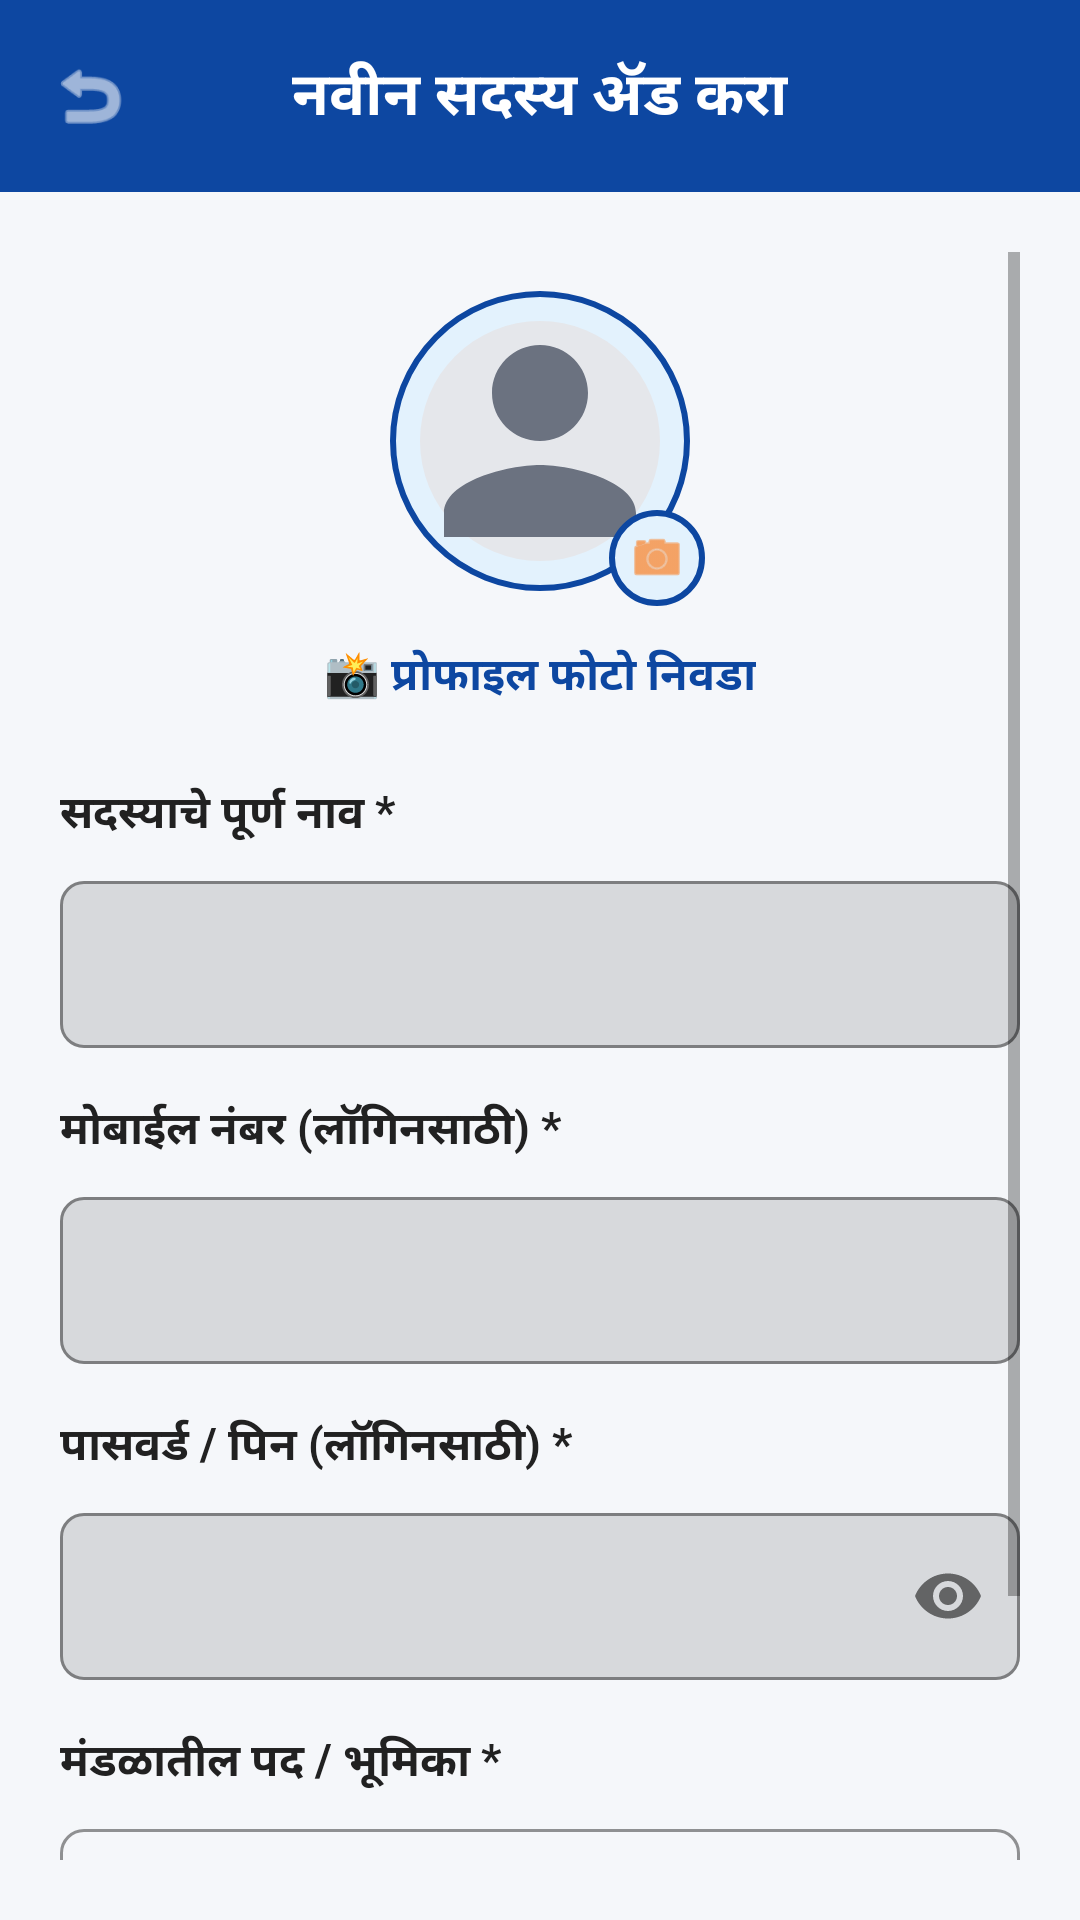

Icons on this 1080px×1920px Android screen, each with the point to tap as point (x, y):
camera: point (657, 558)
revert: point (91, 96)
